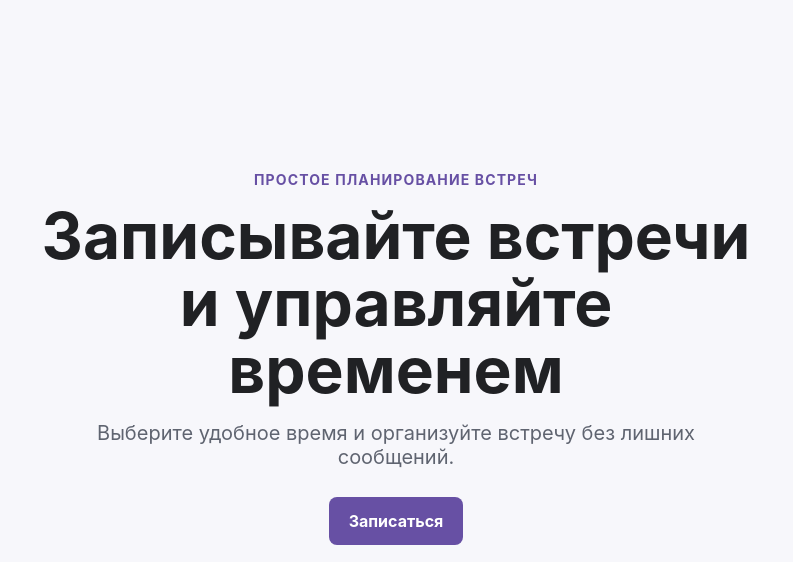
Scenario: главная страница › показывает заголовок и ведёт в Каталог типов встреч
Check: the heading "Записывайте встречи и управляйте временем" is shown, box [36,202,756,403]
What coordinates should you click on to do the following:
click the link "Записаться"
I would click on:
 (396, 521)
Its box is [329,497,463,545].
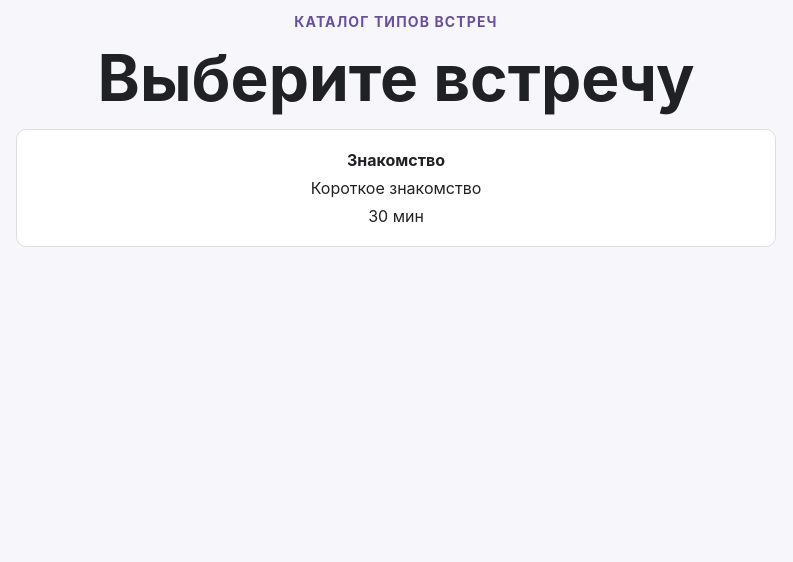
Check: the heading "Выберите встречу" is shown, box [98,39,694,116]
